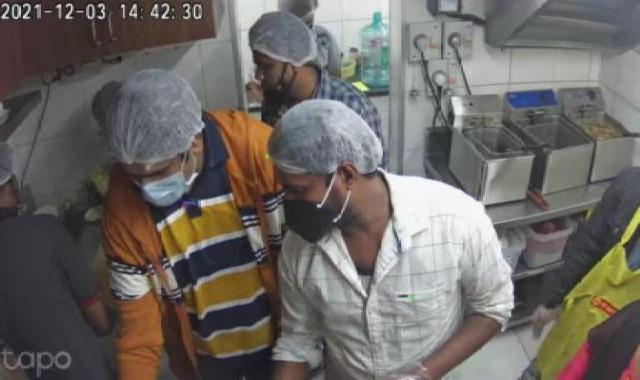hairnet: (256, 96, 394, 182), (106, 68, 208, 162), (240, 8, 335, 68)
